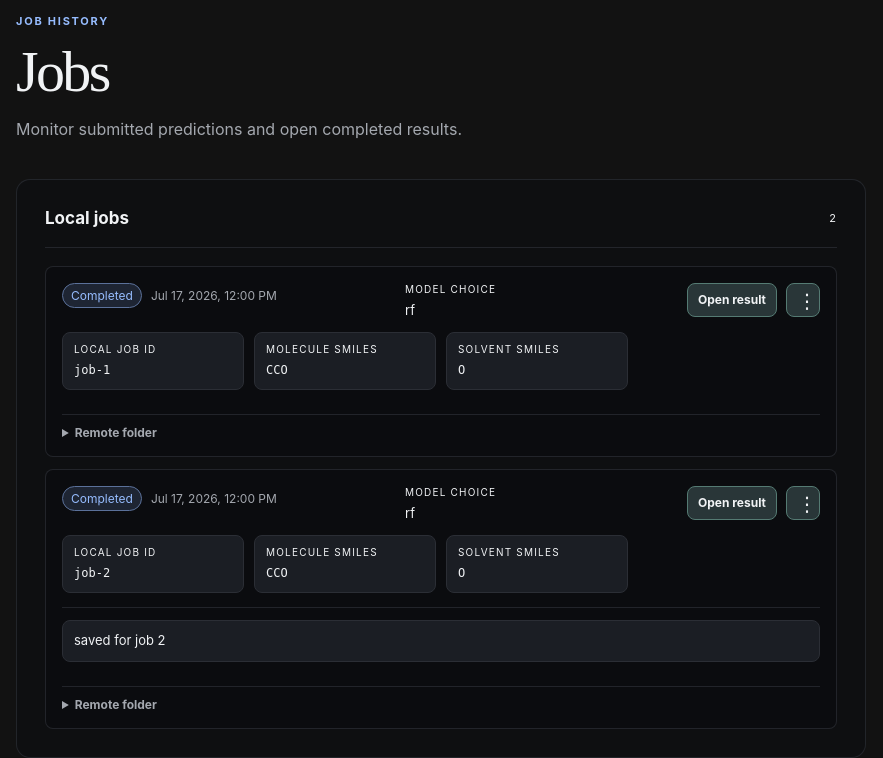
JobsPage recovery actions › associates menu note actions with the correct job card
Click the button named "More actions for job job-2".
click(803, 503)  # box [786,486,820,520]
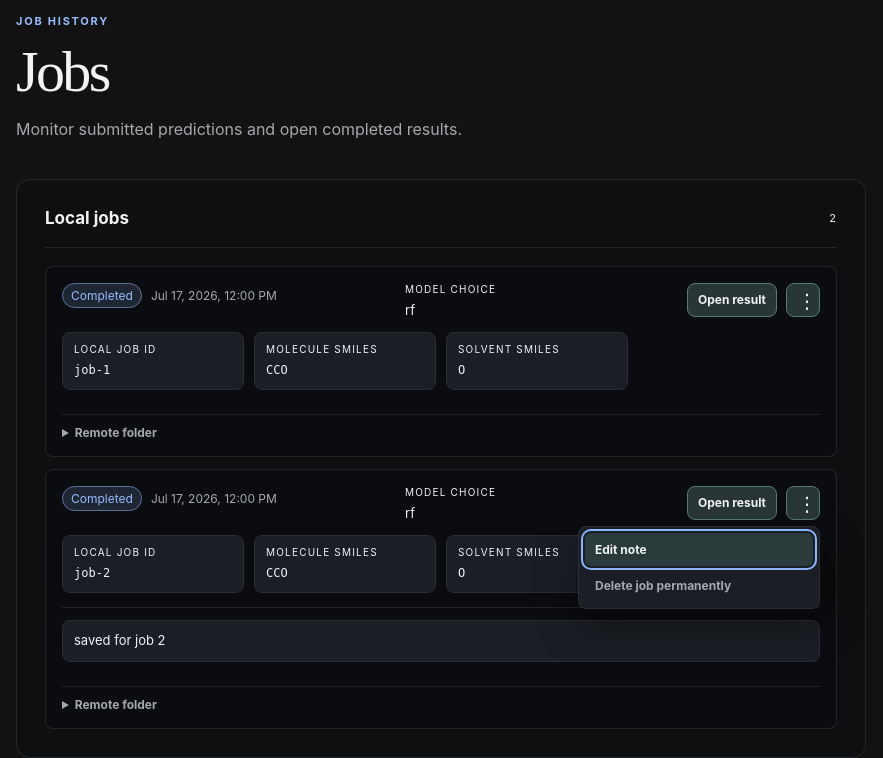
expect the menu item "Edit note" is shown: met
Click the menu item "Edit note".
click(699, 549)  # box [585,533,813,566]
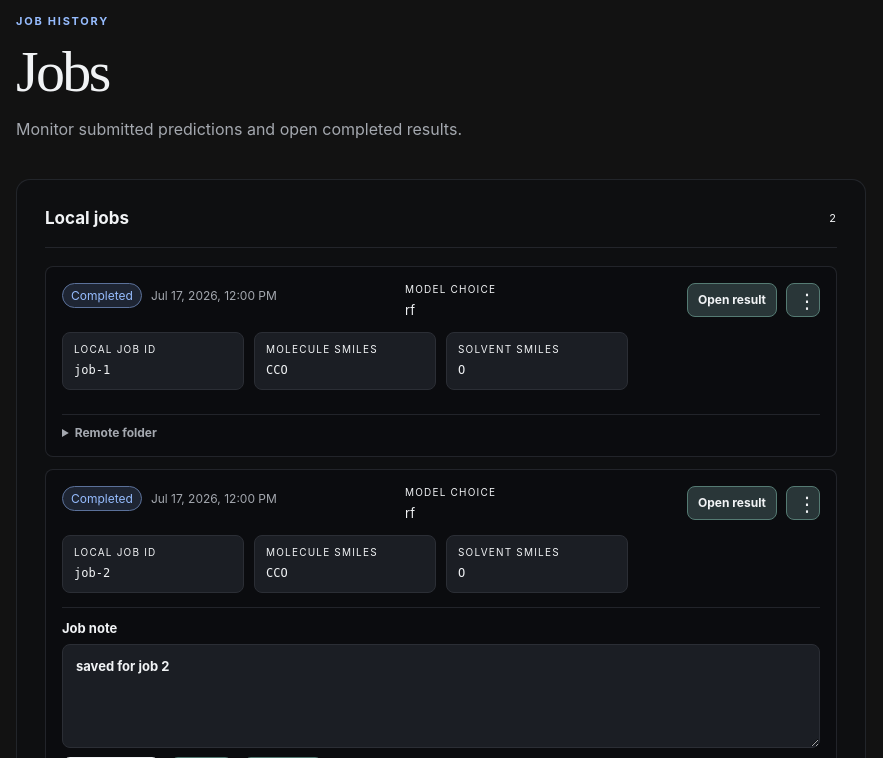
expect the text box labelled "Job note" holds "saved for job 2": met, box [62,644,820,748]
